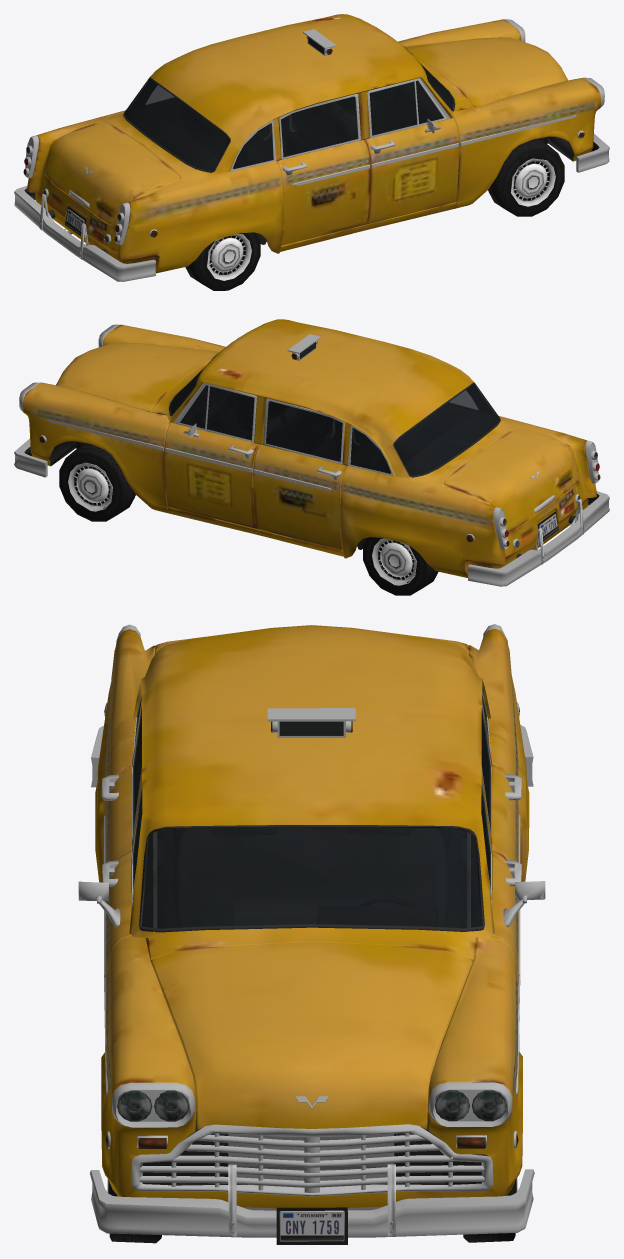
Rendered from canyon.glb.
The picture shows the model from 3 angles, top to bottom: view 1: azimuth 30°, elevation 25°; view 2: azimuth 150°, elevation 25°; view 3: azimuth 270°, elevation 25°; orthographic projection. The views are drawn at different scales.
Visible parts, largest first — view 1: Canyon75_Body_Canyon75_Bodymat_0, Canyon75_Interior_UCB_Interiors_2_0, Canyon75_Trunk_door_Canyon75_Bodymat_0, Canyon75_Hood_Canyon75_Bodymat_0, Canyon75_Bottom_UCB_BOTTOM_0, Canyon75_Rear_windows_UCB_Lights_and_Glass_Transperent_0, Canyon75_WheelStock_FR_RB1c_Tire_1k_0, Canyon75_Bodyglass_UCB_Lights_and_Glass_Transperent_0, Canyon75_Bumper_rear_UCB_BOTTOM_0, Canyon75_WheelStock_RR_RB1c_Tire_1k_0, Canyon75_Glass_Passenger_UCB_Lights_and_Glass_Transperent_0, Canyon75_Bumper_front_UCB_BOTTOM_0 (+1 smaller); view 2: Canyon75_Body_Canyon75_Bodymat_0, Canyon75_Interior_UCB_Interiors_2_0, Canyon75_Trunk_door_Canyon75_Bodymat_0, Canyon75_Hood_Canyon75_Bodymat_0, Canyon75_Bottom_UCB_BOTTOM_0, Canyon75_Rear_windows_UCB_Lights_and_Glass_Transperent_0, Canyon75_WheelStock_FL_RB1c_Tire_1k_0, Canyon75_Bodyglass_UCB_Lights_and_Glass_Transperent_0, Canyon75_Bumper_rear_UCB_BOTTOM_0, Canyon75_WheelStock_RL_RB1c_Tire_1k_0, Canyon75_Glass_Driver_UCB_Lights_and_Glass_Transperent_0, Canyon75_Bumper_front_UCB_BOTTOM_0 (+1 smaller); view 3: Canyon75_Body_Canyon75_Bodymat_0, Canyon75_Hood_Canyon75_Bodymat_0, Canyon75_Bottom_UCB_BOTTOM_0, Canyon75_Interior_UCB_Interiors_2_0, Canyon75_Windshield_UCB_Lights_and_Glass_Transperent_0, Canyon75_Bumper_front_UCB_BOTTOM_0, Canyon75_Headlights_UCB_Lights_and_Glass_0, Canyon75_Taxi_Beacon_UCB_BOTTOM_0, Canyon75_Numberplate_Front_Numberplates_Misk_U_0, Canyon75_Bodyglass_UCB_Lights_and_Glass_Transperent_0, Canyon75_Bumper_rear_UCB_BOTTOM_0.
Part boxes in pixels (box(x1,y1,x2,y2)): Canyon75_Body_Canyon75_Bodymat_0: box(27, 14, 600, 273); Canyon75_Interior_UCB_Interiors_2_0: box(125, 69, 459, 180); Canyon75_Trunk_door_Canyon75_Bodymat_0: box(45, 122, 180, 226); Canyon75_Hood_Canyon75_Bodymat_0: box(405, 37, 567, 107); Canyon75_Bottom_UCB_BOTTOM_0: box(23, 19, 604, 244); Canyon75_Rear_windows_UCB_Lights_and_Glass_Transperent_0: box(124, 78, 273, 171); Canyon75_WheelStock_FR_RB1c_Tire_1k_0: box(488, 138, 564, 216); Canyon75_Bodyglass_UCB_Lights_and_Glass_Transperent_0: box(281, 80, 443, 157); Canyon75_Bumper_rear_UCB_BOTTOM_0: box(14, 186, 155, 281); Canyon75_WheelStock_RR_RB1c_Tire_1k_0: box(185, 232, 260, 290); Canyon75_Glass_Passenger_UCB_Lights_and_Glass_Transperent_0: box(369, 81, 417, 135); Canyon75_Bumper_front_UCB_BOTTOM_0: box(576, 134, 609, 172); Canyon75_Body_Canyon75_Bodymat_0: box(23, 319, 597, 577); Canyon75_Interior_UCB_Interiors_2_0: box(169, 374, 499, 475); Canyon75_Trunk_door_Canyon75_Bodymat_0: box(443, 427, 578, 531); Canyon75_Hood_Canyon75_Bodymat_0: box(56, 342, 219, 412); Canyon75_Bottom_UCB_BOTTOM_0: box(19, 324, 600, 549); Canyon75_Rear_windows_UCB_Lights_and_Glass_Transperent_0: box(350, 383, 499, 475); Canyon75_WheelStock_FL_RB1c_Tire_1k_0: box(59, 443, 135, 521); Canyon75_Bodyglass_UCB_Lights_and_Glass_Transperent_0: box(180, 385, 342, 461); Canyon75_Bumper_rear_UCB_BOTTOM_0: box(468, 491, 609, 586); Canyon75_WheelStock_RL_RB1c_Tire_1k_0: box(363, 537, 438, 595); Canyon75_Glass_Driver_UCB_Lights_and_Glass_Transperent_0: box(206, 386, 254, 440); Canyon75_Bumper_front_UCB_BOTTOM_0: box(14, 438, 47, 477); Canyon75_Body_Canyon75_Bodymat_0: box(95, 625, 529, 1208); Canyon75_Hood_Canyon75_Bodymat_0: box(150, 941, 473, 1129); Canyon75_Bottom_UCB_BOTTOM_0: box(78, 624, 545, 1210); Canyon75_Interior_UCB_Interiors_2_0: box(134, 720, 489, 932); Canyon75_Windshield_UCB_Lights_and_Glass_Transperent_0: box(142, 827, 481, 928); Canyon75_Bumper_front_UCB_BOTTOM_0: box(89, 1164, 534, 1244); Canyon75_Headlights_UCB_Lights_and_Glass_0: box(117, 1090, 506, 1121); Canyon75_Taxi_Beacon_UCB_BOTTOM_0: box(267, 708, 355, 737); Canyon75_Numberplate_Front_Numberplates_Misk_U_0: box(279, 1210, 344, 1241); Canyon75_Bodyglass_UCB_Lights_and_Glass_Transperent_0: box(133, 708, 491, 899); Canyon75_Bumper_rear_UCB_BOTTOM_0: box(91, 725, 533, 787).
Bounding box in the file's own units: 5.31 × 1.83 × 2.12.
Materials: 8 (8 with a texture image).
